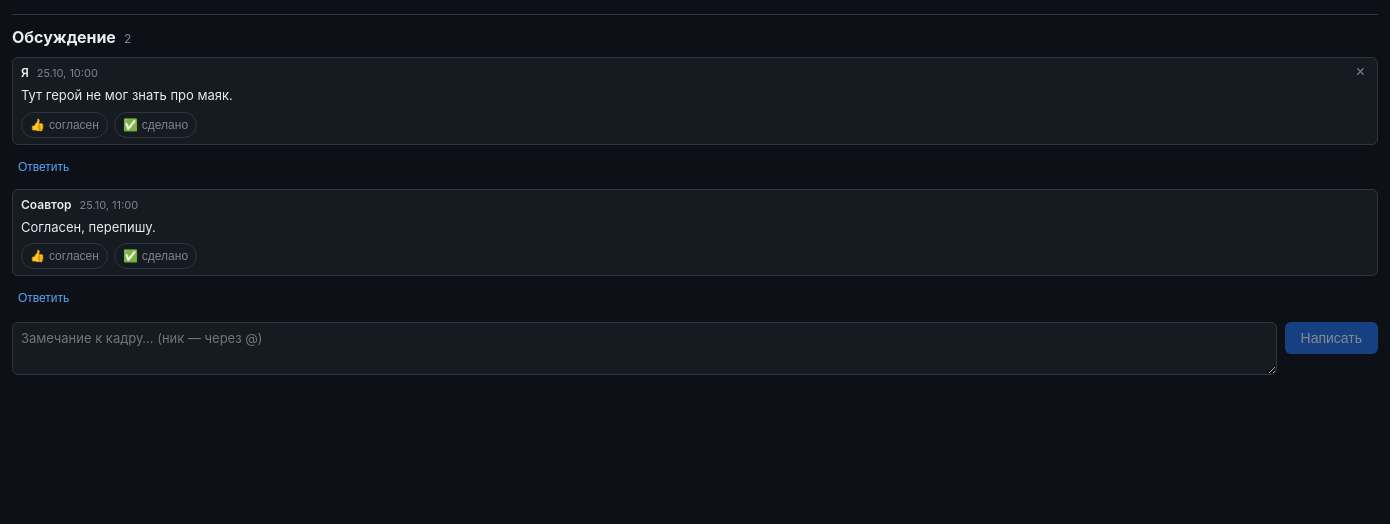
Test case: FrameComments › отправка добавляет комментарий и очищает поле
Expected: the text "Согласен, перепишу." is shown, 21,218 -> 156,234
Type "Новое замечание." into the text box named "Новый комментарий".
click(644, 348); type("Новое замечание.")  # box 12,322 -> 1276,375
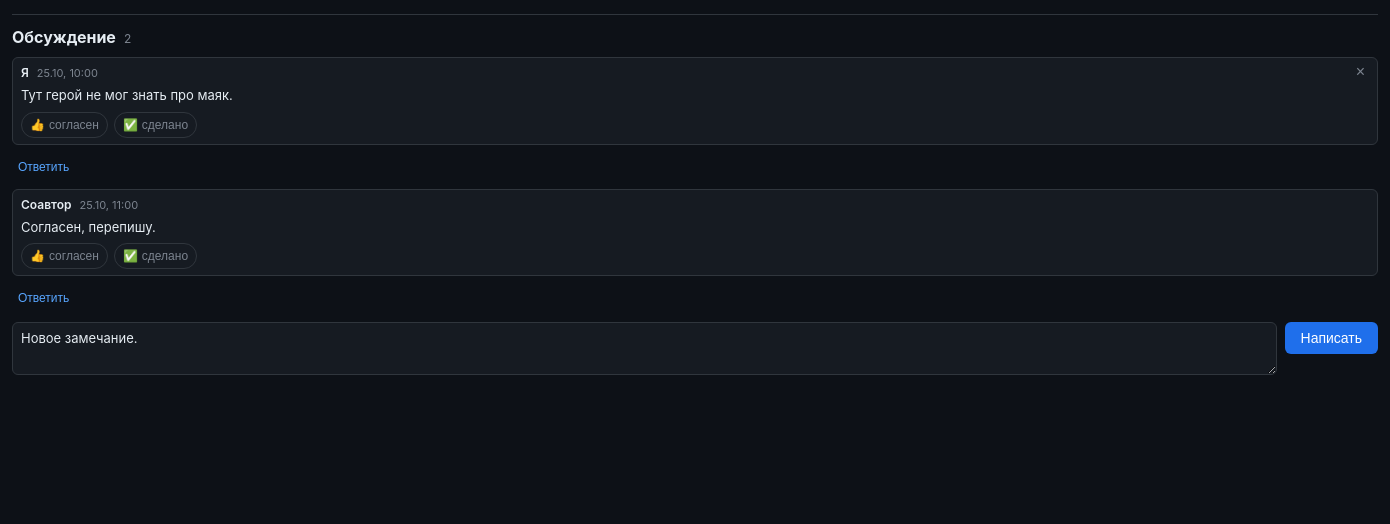
Click the button "Написать".
click(1331, 338)  # box 1284,322 -> 1378,354
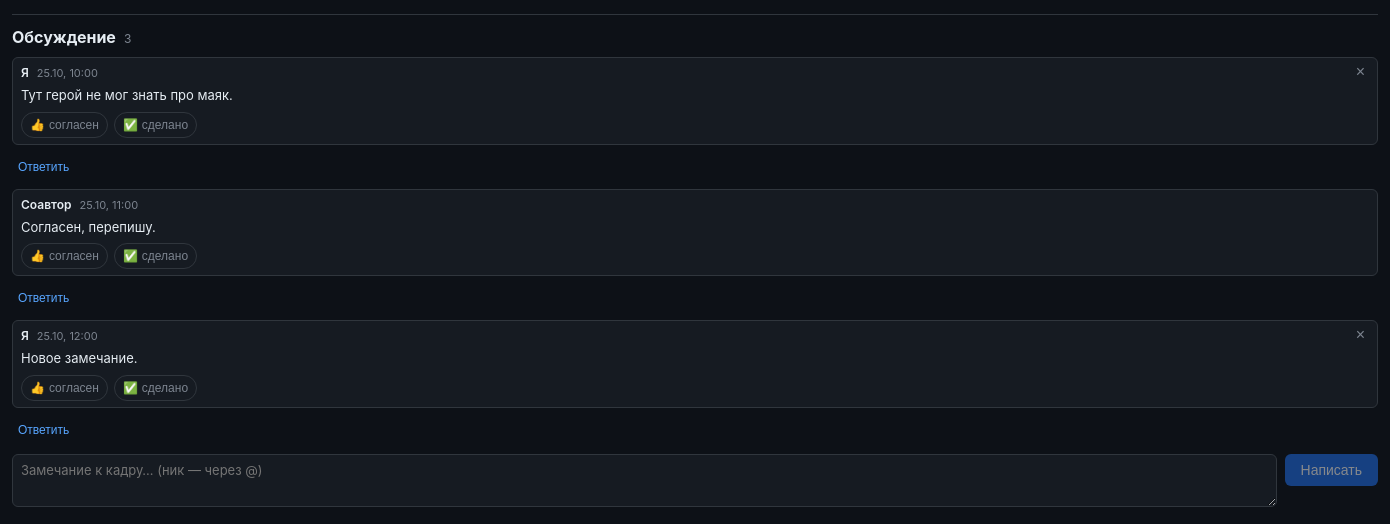
Now the text "Новое замечание." is shown, box 21,350 -> 138,366
Now the text box named "Новый комментарий" is empty, box 12,454 -> 1276,506
